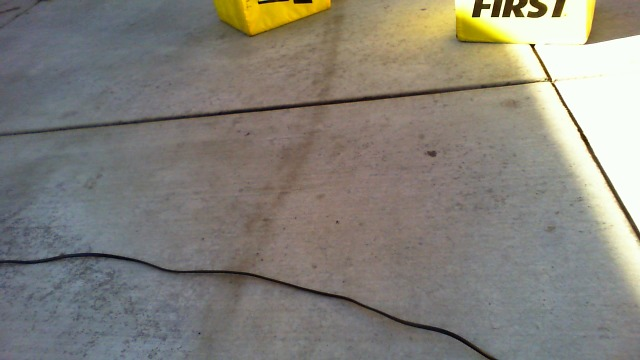cube: (453, 1, 596, 44), (211, 1, 333, 39)
